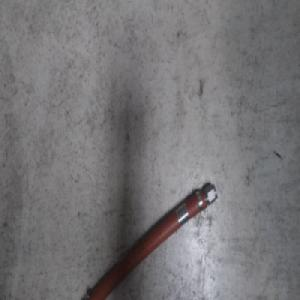Hose: (71, 178, 218, 300)
